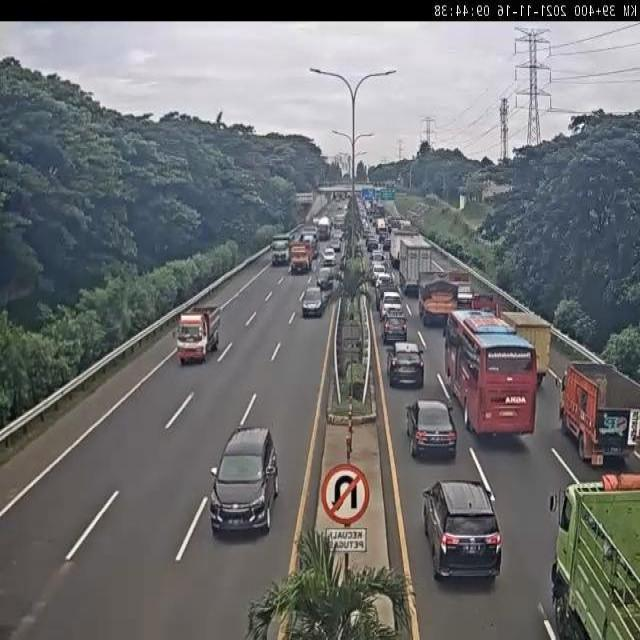Bus: (443, 307, 538, 439), (297, 226, 319, 260)
Car: (421, 480, 501, 580), (208, 425, 279, 535), (406, 398, 456, 459), (387, 341, 424, 388), (381, 310, 409, 344), (301, 286, 324, 318), (380, 292, 402, 322), (316, 266, 336, 291), (374, 272, 393, 294), (321, 246, 337, 267), (371, 262, 387, 280), (330, 237, 342, 253), (367, 236, 379, 252), (332, 228, 343, 240), (383, 237, 391, 251)
Truck: (547, 470, 639, 640), (561, 362, 640, 466), (499, 311, 552, 386), (172, 303, 222, 366), (398, 234, 434, 293), (419, 278, 461, 328), (390, 227, 418, 270), (447, 268, 475, 307), (270, 230, 296, 267), (289, 240, 313, 276), (469, 290, 500, 317), (317, 216, 331, 240)
